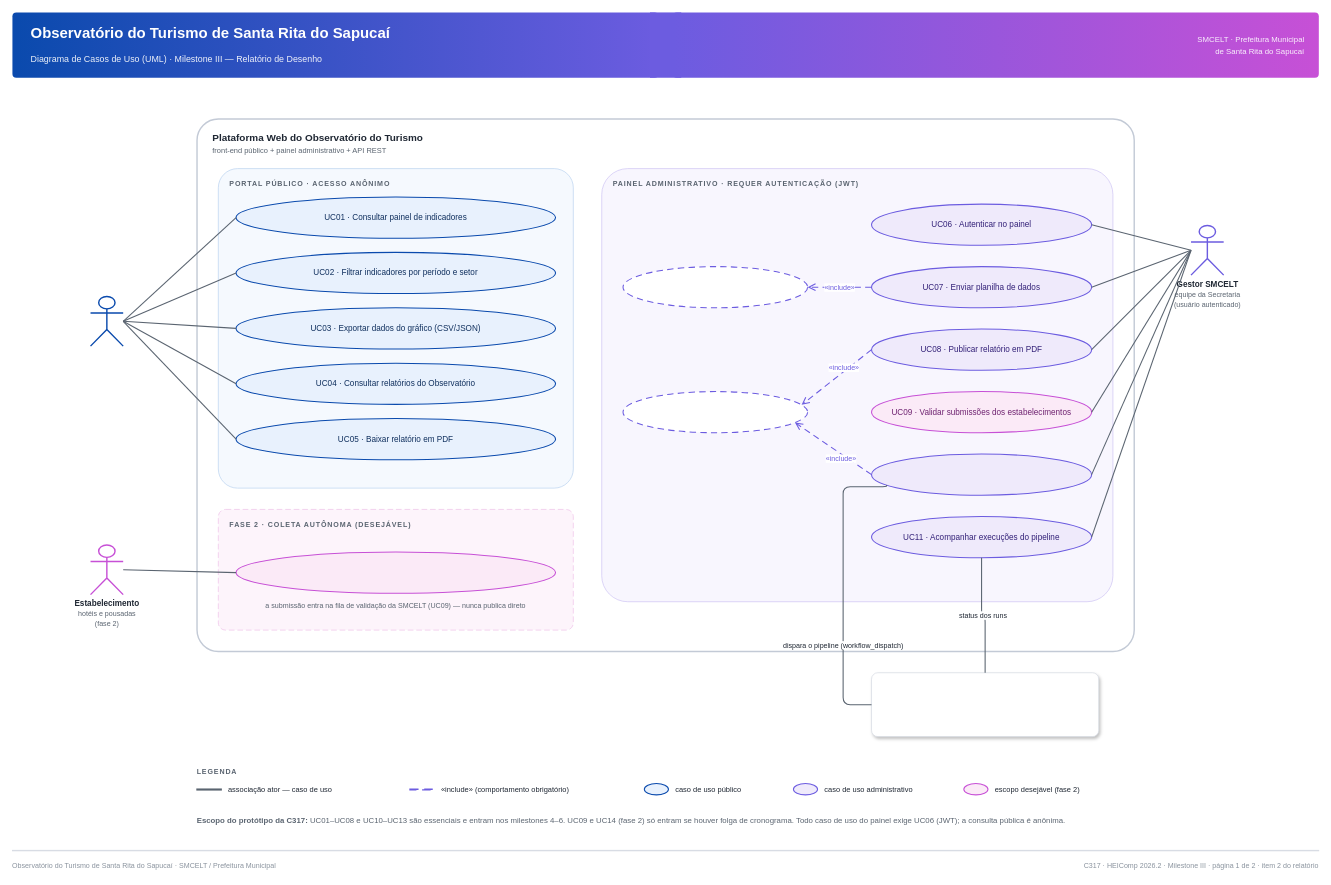
The diagram is 1331 pixels wide and 885 high, and some of its shapes have lost their labels. Each missing label, with the centre of its shape:
"UC10 · Publicar dados" belongs at [981,474].
"UC12 · Validar schema e regras de negócio" belongs at [715,287].
"UC13 · Registrar trilha de auditoria" belongs at [715,412].
"UC14 · Enviar dados de ocupação do mês" belongs at [395,572].
"Visitante do portal cidadão · turista empreendedor · pesquisador" belongs at [106,320].
"«sistema» Pipeline analítico GitHub Actions + dbt publisher → serving" belongs at [985,705].
